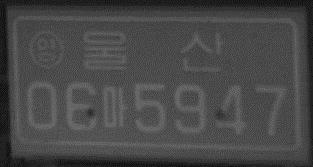0: (25, 80, 59, 132)
4: (210, 84, 247, 137)
5: (132, 81, 167, 134)
6: (65, 79, 100, 133)
7: (251, 83, 290, 139)
9: (172, 82, 208, 135)
마: (100, 84, 130, 131)
영: (27, 28, 65, 72)
울산_D: (80, 26, 226, 75)
